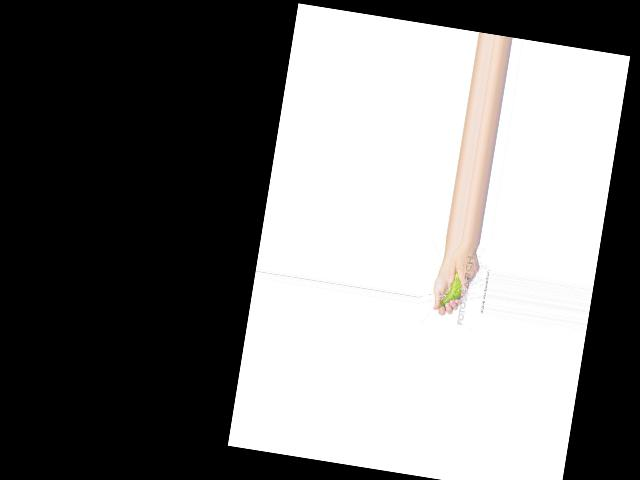cucumber: (439, 268, 465, 310)
